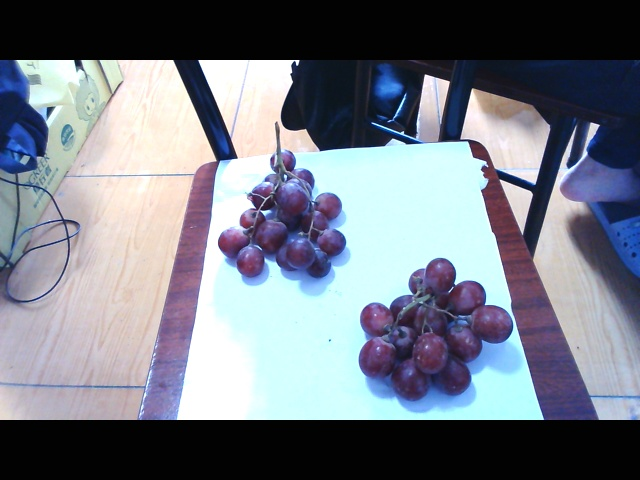grape: (343, 240, 514, 405), (215, 142, 359, 278)
